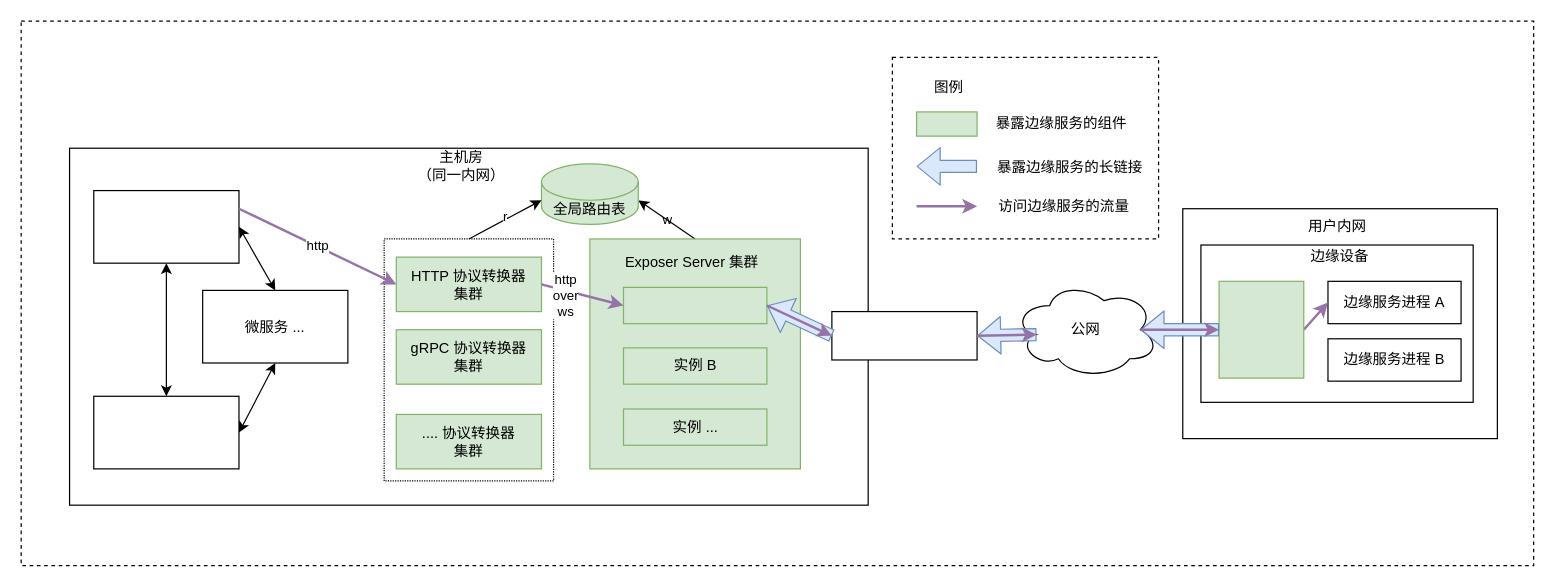
Some shapes in this 1555 by 587 pixel diagram are drawn without their labels. The centre of each missing label's shape, as x and y in pixels:
Exposer Client 进程: [1261,329]
实例 A: [694,305]
微服务 A: [166,226]
微服务 B: [166,432]
负载均衡 （公网 IP）: [904,335]
